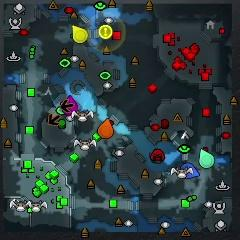p1: (180, 161, 199, 177)
p2: (199, 148, 215, 168)
p3: (65, 95, 76, 112)
p4: (71, 24, 88, 43)
p5: (97, 119, 114, 138)
x5Clone: (48, 112, 61, 126), (60, 100, 74, 112)
